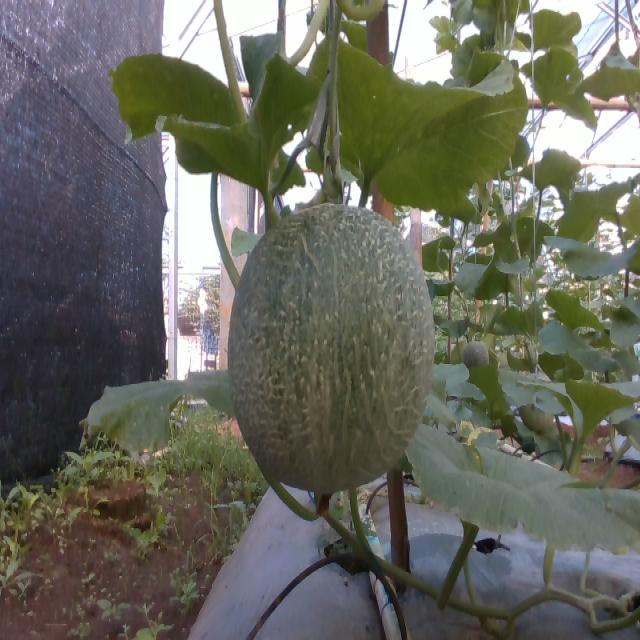melon: (229, 207, 435, 495)
